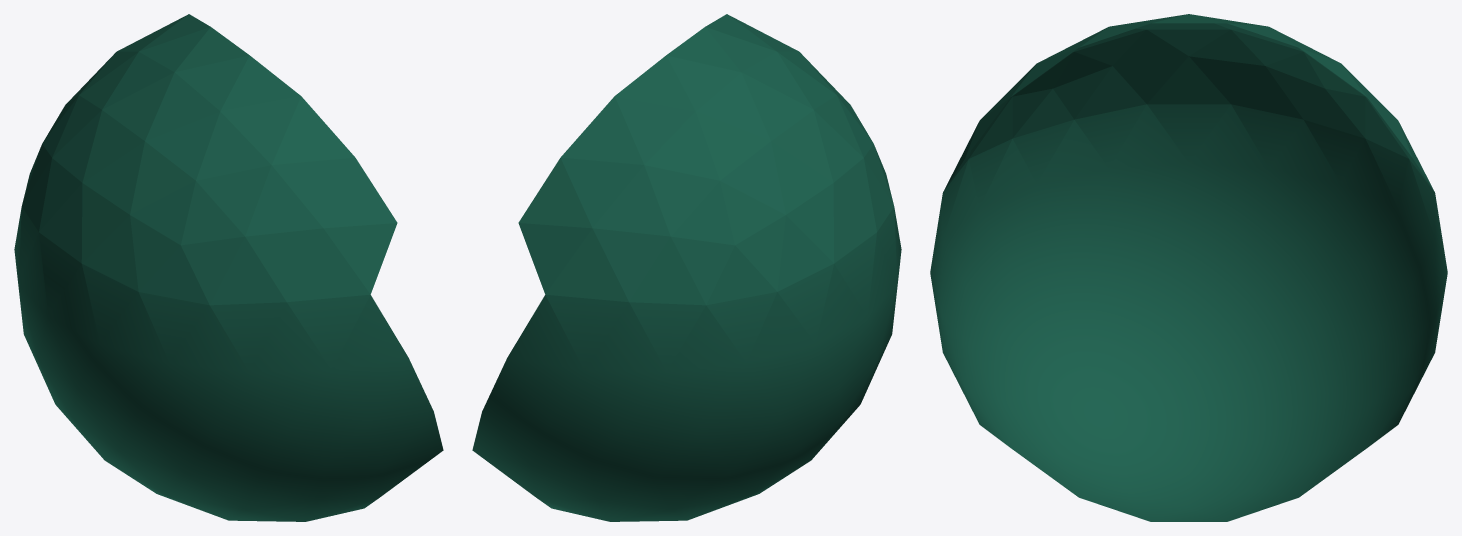
Rendered from MixedTopologySphere.glb.
3 views of the same model, side by side, from view 1: azimuth 30°, elevation 25°; view 2: azimuth 150°, elevation 25°; view 3: azimuth 270°, elevation 25° (orthographic).
Parts seen in each view (by area): view 1: Icosphere; view 2: Icosphere; view 3: Icosphere.
Part boxes in pixels (x1,y1,x2,y2): Icosphere: [14, 14, 443, 521]; Icosphere: [472, 14, 901, 521]; Icosphere: [930, 14, 1447, 521].
Bounding box in the file's own units: 0.6314 × 0.984 × 1.
